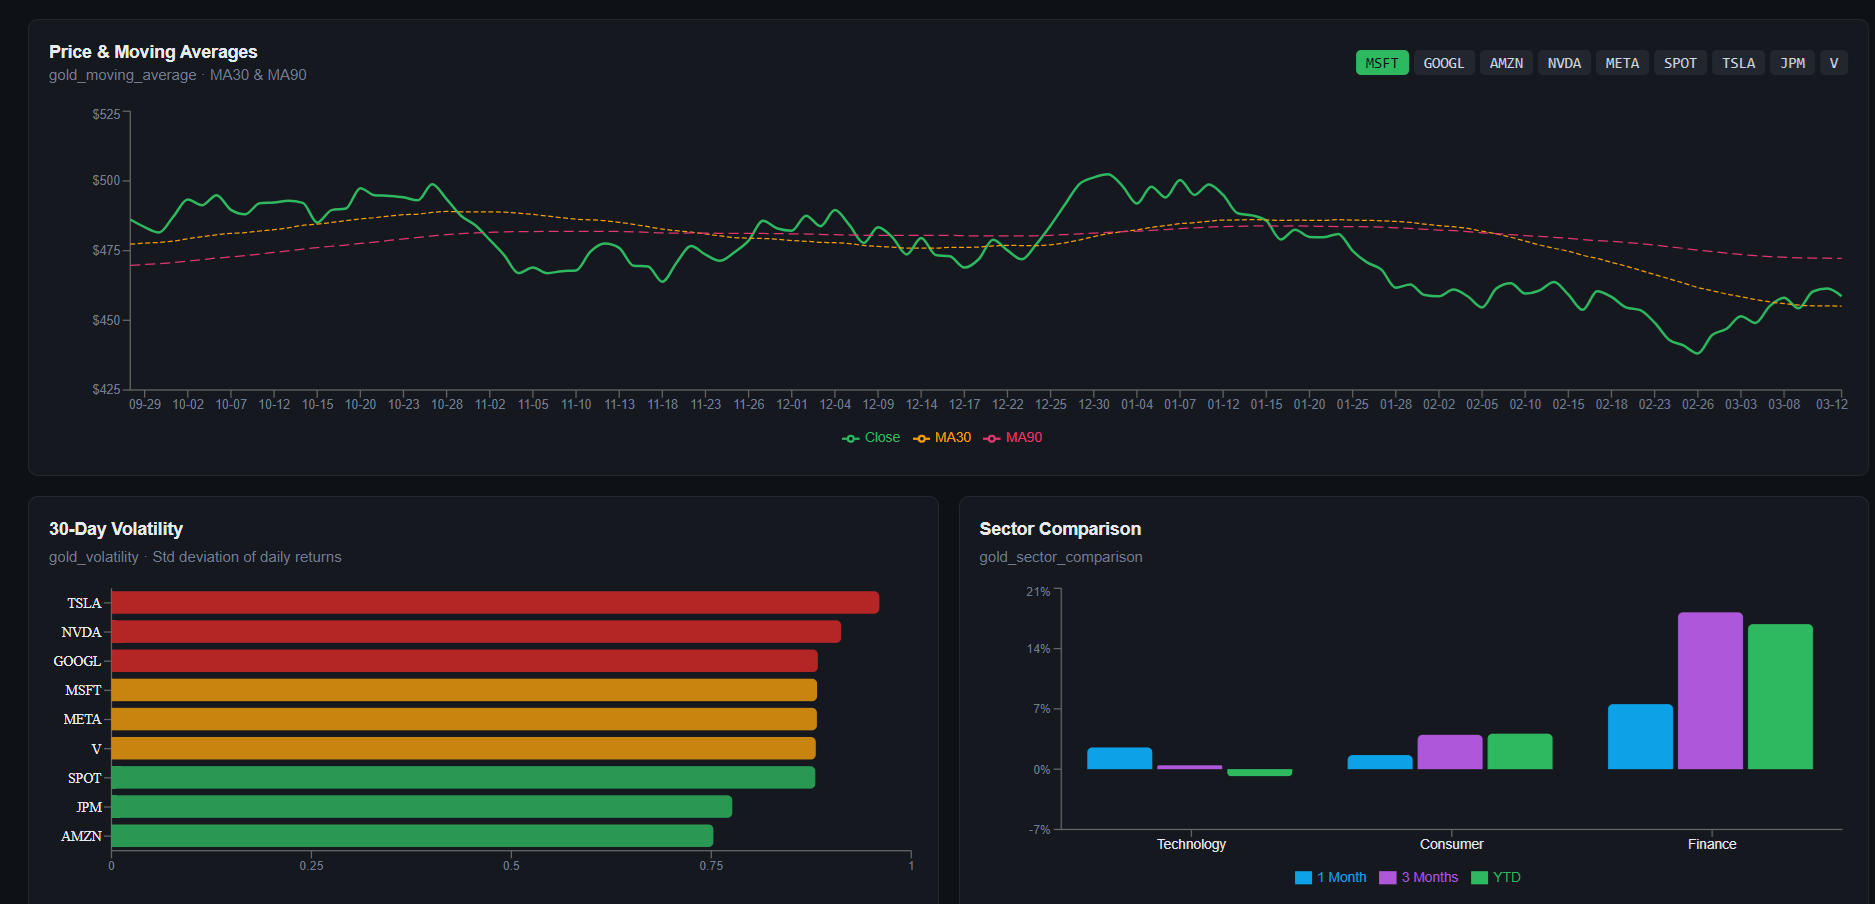

This screenshot's page, from the dashboard's own definition file:
{"tool":"powerbi","page":{"name":"Risk","canvas":[1280,720],"ordinal":2},"visuals":[{"type":"textbox","box":[16,0,304,64],"z":0},{"type":"clusteredBarChart","title":"Std deviation of daily returns","fields":{"Category":["public gold_volatility.ticker"],"Y":["_Measures.Dyn Volatility"]},"box":[16,64,480,272],"z":1000},{"type":"clusteredColumnChart","fields":{"Y":["Avg(public gold_performance_summary.one_month_return_pct)","Avg(public gold_performance_summary.three_month_return_pct)","Avg(public gold_performance_summary.ytd_return_pct)"],"Category":["public gold_performance_summary.sector"]},"box":[528,64,496,272],"z":2000},{"type":"pivotTable","title":"Correlation matrix","fields":{"Rows":["public gold_correlation_full.ticker_a"],"Columns":["public gold_correlation_full.ticker_b"],"Values":["Avg(public gold_correlation_full.correlation)"]},"box":[16,352,1008,336],"z":3000}]}

Visuals, with their boxes on the page's 1280x720 design canvas (x1, y1, x2, y2). These are canvas units, not pixel positions in the 1875x904 screenshot, which may show the page scaled, cropped or inside an application window:
textbox: Rect(16, 0, 320, 64)
"Std deviation of daily returns" clusteredBarChart: Rect(16, 64, 496, 336)
clusteredColumnChart - Avg(public gold_performance_summary.one_month_return_pct) x Avg(public gold_performance_summary.three_month_return_pct): Rect(528, 64, 1024, 336)
"Correlation matrix" pivotTable: Rect(16, 352, 1024, 688)
